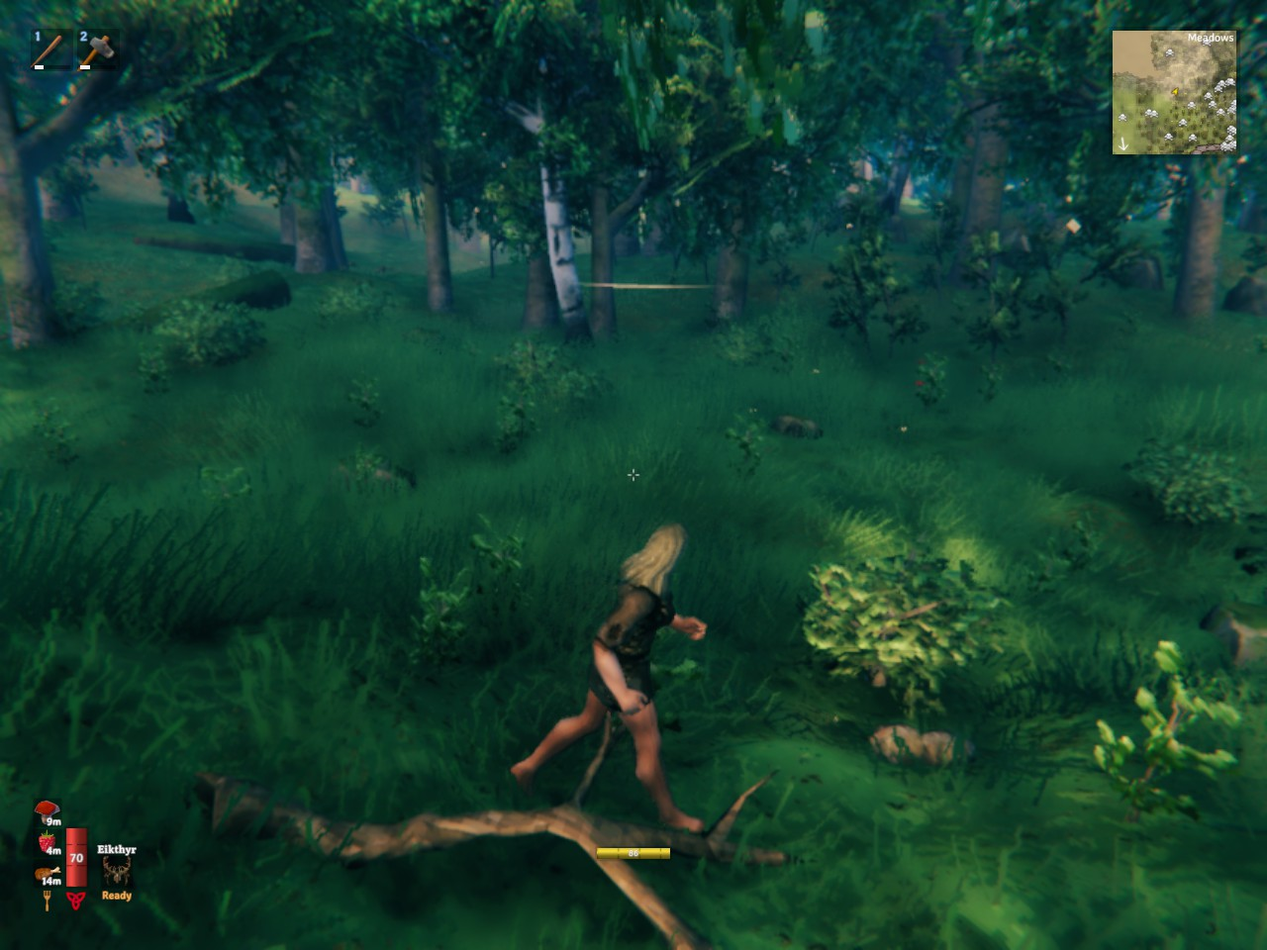Branch: (197, 719, 792, 865), (604, 868, 712, 949)
Food Indicator: (36, 797, 63, 891)
Health Bar: (63, 820, 90, 891)
Hotbar: (25, 21, 398, 78)
Stamina Bar: (590, 842, 674, 865)
Stone: (870, 725, 927, 763), (925, 732, 971, 763), (770, 415, 822, 438)
